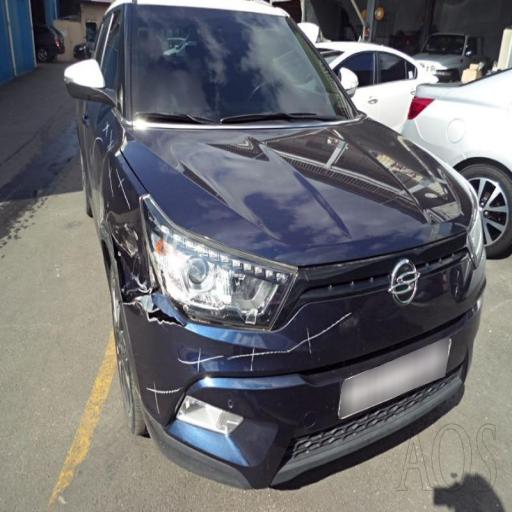broken: (96, 191, 275, 403)
